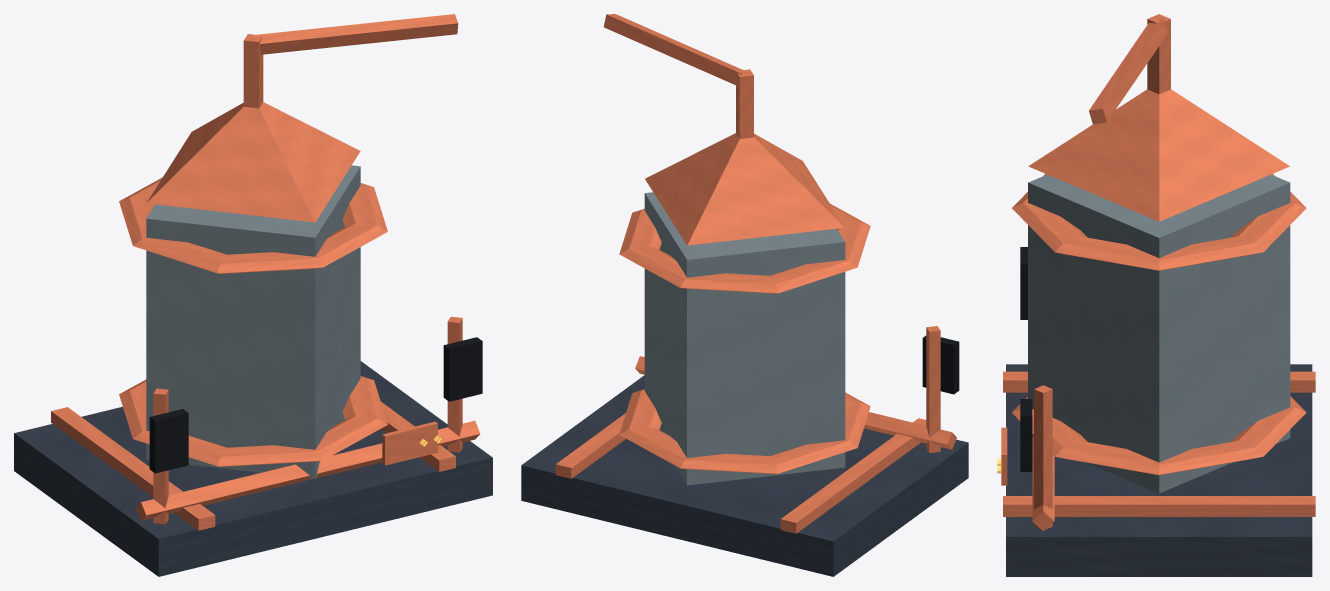
The model's file is atlas100-s029-a02.lod1.glb.
3 views of the same model, side by side, from view 1: azimuth 30°, elevation 25°; view 2: azimuth 150°, elevation 25°; view 3: azimuth 270°, elevation 25° (orthographic). The views are drawn at different scales.
Parts seen in each view (by area): view 1: atlas100-s029-a02:part-003, atlas100-s029-a02:part-000, atlas100-s029-a02:part-007, atlas100-s029-a02:part-005, atlas100-s029-a02:part-004, atlas100-s029-a02:part-014, atlas100-s029-a02:part-009, atlas100-s029-a02:part-001, atlas100-s029-a02:part-011, atlas100-s029-a02:part-013, atlas100-s029-a02:part-015, atlas100-s029-a02:part-008 (+3 smaller); view 2: atlas100-s029-a02:part-003, atlas100-s029-a02:part-000, atlas100-s029-a02:part-007, atlas100-s029-a02:part-005, atlas100-s029-a02:part-004, atlas100-s029-a02:part-001, atlas100-s029-a02:part-009, atlas100-s029-a02:part-010, atlas100-s029-a02:part-002, atlas100-s029-a02:part-014, atlas100-s029-a02:part-011, atlas100-s029-a02:part-008; view 3: atlas100-s029-a02:part-003, atlas100-s029-a02:part-000, atlas100-s029-a02:part-007, atlas100-s029-a02:part-005, atlas100-s029-a02:part-004, atlas100-s029-a02:part-002, atlas100-s029-a02:part-009, atlas100-s029-a02:part-012, atlas100-s029-a02:part-008, atlas100-s029-a02:part-001, atlas100-s029-a02:part-013, atlas100-s029-a02:part-014 (+2 smaller).
Part boxes in pixels (<box>): atlas100-s029-a02:part-003: <box>146,165,360,478</box>; atlas100-s029-a02:part-000: <box>14,361,492,576</box>; atlas100-s029-a02:part-007: <box>146,102,360,222</box>; atlas100-s029-a02:part-005: <box>119,177,387,273</box>; atlas100-s029-a02:part-004: <box>119,376,387,466</box>; atlas100-s029-a02:part-014: <box>136,420,480,520</box>; atlas100-s029-a02:part-009: <box>252,14,458,54</box>; atlas100-s029-a02:part-001: <box>51,407,215,530</box>; atlas100-s029-a02:part-011: <box>149,409,188,473</box>; atlas100-s029-a02:part-013: <box>443,337,482,401</box>; atlas100-s029-a02:part-015: <box>382,421,437,465</box>; atlas100-s029-a02:part-008: <box>243,34,263,108</box>; atlas100-s029-a02:part-003: <box>644,192,845,485</box>; atlas100-s029-a02:part-000: <box>521,375,968,576</box>; atlas100-s029-a02:part-007: <box>645,133,844,245</box>; atlas100-s029-a02:part-005: <box>619,203,870,293</box>; atlas100-s029-a02:part-004: <box>619,389,870,473</box>; atlas100-s029-a02:part-001: <box>780,418,926,533</box>; atlas100-s029-a02:part-009: <box>603,14,743,86</box>; atlas100-s029-a02:part-010: <box>926,326,940,452</box>; atlas100-s029-a02:part-002: <box>555,413,625,478</box>; atlas100-s029-a02:part-014: <box>635,356,956,449</box>; atlas100-s029-a02:part-011: <box>922,335,959,394</box>; atlas100-s029-a02:part-008: <box>736,69,753,138</box>; atlas100-s029-a02:part-003: <box>1028,174,1290,493</box>; atlas100-s029-a02:part-000: <box>1006,364,1312,576</box>; atlas100-s029-a02:part-007: <box>1028,89,1289,221</box>; atlas100-s029-a02:part-005: <box>1012,174,1306,270</box>; atlas100-s029-a02:part-004: <box>1012,396,1306,475</box>; atlas100-s029-a02:part-002: <box>1003,496,1315,516</box>; atlas100-s029-a02:part-009: <box>1089,19,1167,124</box>; atlas100-s029-a02:part-012: <box>1034,385,1052,529</box>; atlas100-s029-a02:part-008: <box>1147,14,1170,94</box>; atlas100-s029-a02:part-001: <box>1003,371,1315,392</box>; atlas100-s029-a02:part-013: <box>1020,399,1032,471</box>; atlas100-s029-a02:part-014: <box>1032,436,1054,531</box>.
Bounding box in the file's own units: 2.46 × 3.06 × 1.87.
5 materials, 5 textured.
